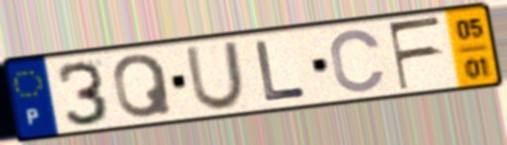3: (56, 59, 113, 129)
C: (327, 26, 388, 95)
F: (385, 13, 445, 93)
L: (253, 37, 310, 105)
Q: (111, 52, 176, 121)
U: (182, 38, 247, 113)
